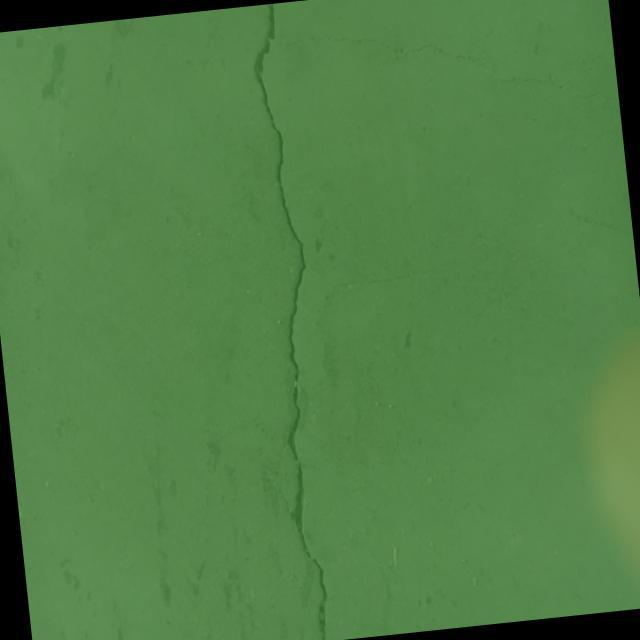crack: (227, 2, 346, 640), (308, 17, 488, 86), (492, 63, 618, 114)
